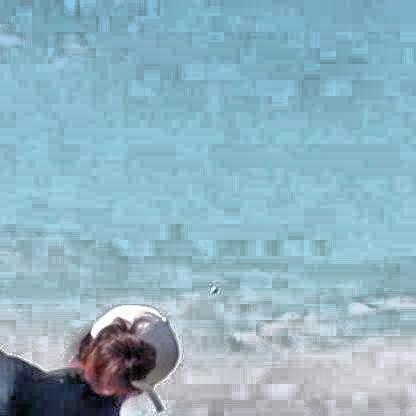golfball: (207, 284, 215, 291)
